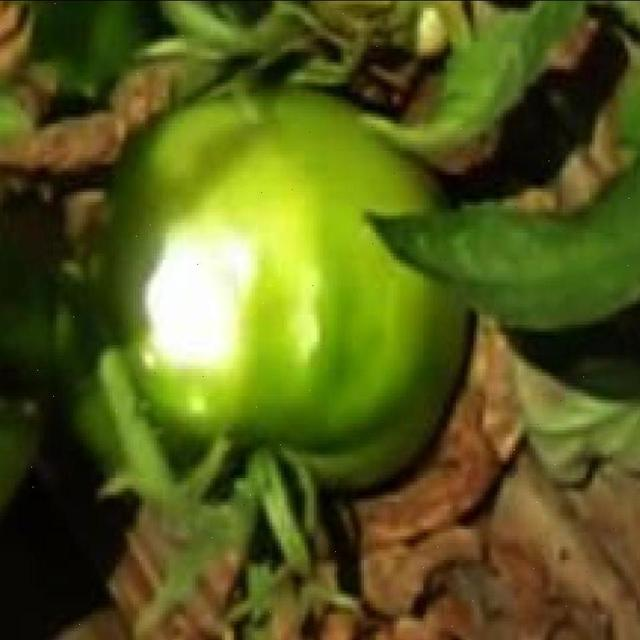Sunscald Fruit: (89, 146, 170, 254)
